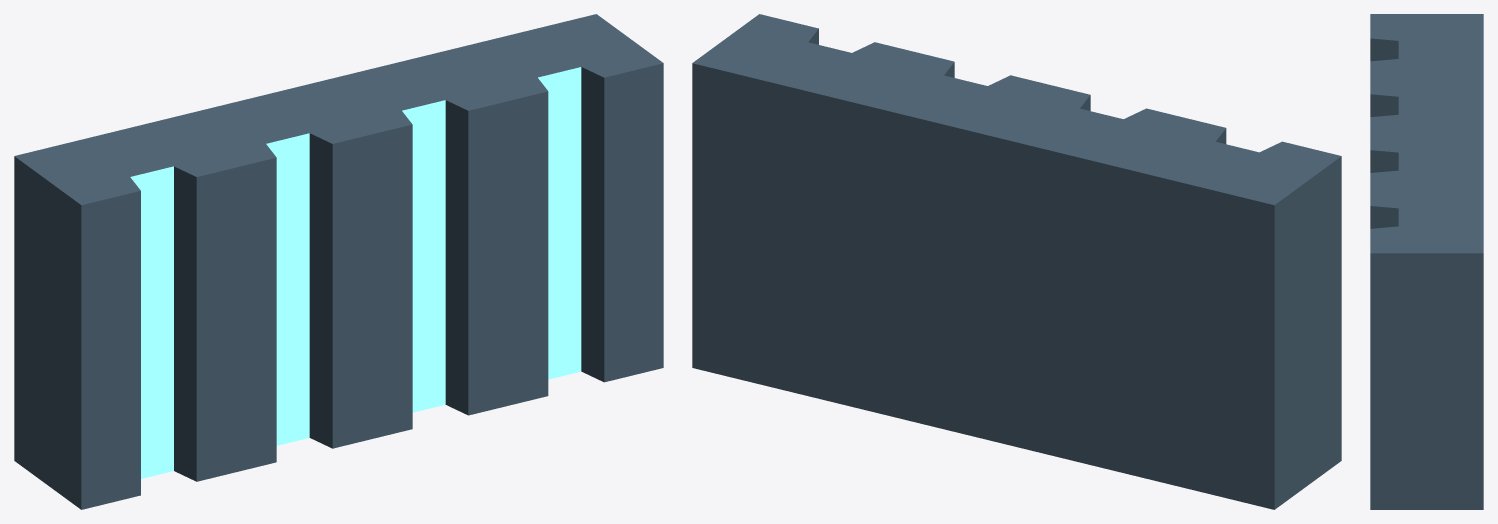
Rendered from W1_Wall_Ridge1_Top.fbx.
3 renders of one model, left to right at view 1: azimuth 30°, elevation 25°; view 2: azimuth 150°, elevation 25°; view 3: azimuth 270°, elevation 25°, orthographic. The views are drawn at different scales.
Parts seen in each view (by area): view 1: W1_Wall_Ridge1_Top.001; view 2: W1_Wall_Ridge1_Top.001; view 3: W1_Wall_Ridge1_Top.001.
Boxes of the visible parts, x1,y1,x2,y2 form: W1_Wall_Ridge1_Top.001: (14, 14, 663, 509); W1_Wall_Ridge1_Top.001: (692, 14, 1341, 509); W1_Wall_Ridge1_Top.001: (1370, 14, 1483, 509).
Size of the model in its own units: 1 by 0.5 by 0.2.
